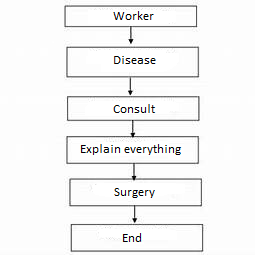arrow: (126, 76, 135, 96), (131, 206, 140, 224), (127, 26, 135, 46), (129, 119, 137, 137), (130, 162, 138, 180)
process: (65, 45, 201, 79), (68, 222, 205, 254), (68, 177, 204, 208), (65, 134, 200, 165), (65, 95, 201, 122), (63, 4, 198, 28)
text: (80, 143, 182, 156), (113, 186, 156, 199), (112, 103, 157, 114), (112, 10, 155, 21), (112, 55, 158, 65), (121, 232, 143, 243)
